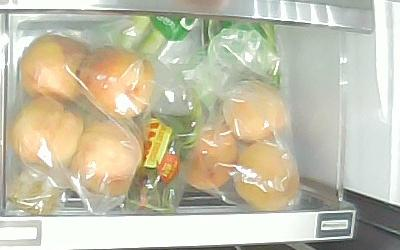peach_vinyl: (79, 47, 157, 119), (72, 122, 140, 196), (12, 98, 82, 168), (20, 34, 90, 102), (233, 143, 299, 208), (221, 82, 285, 143), (180, 128, 239, 190)
